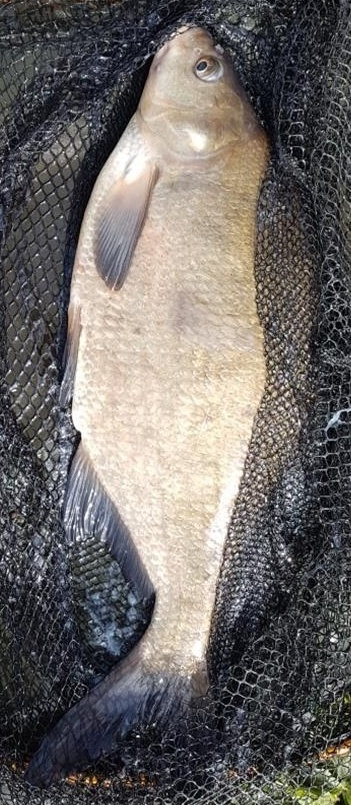Abramis brama: (20, 20, 331, 785)
